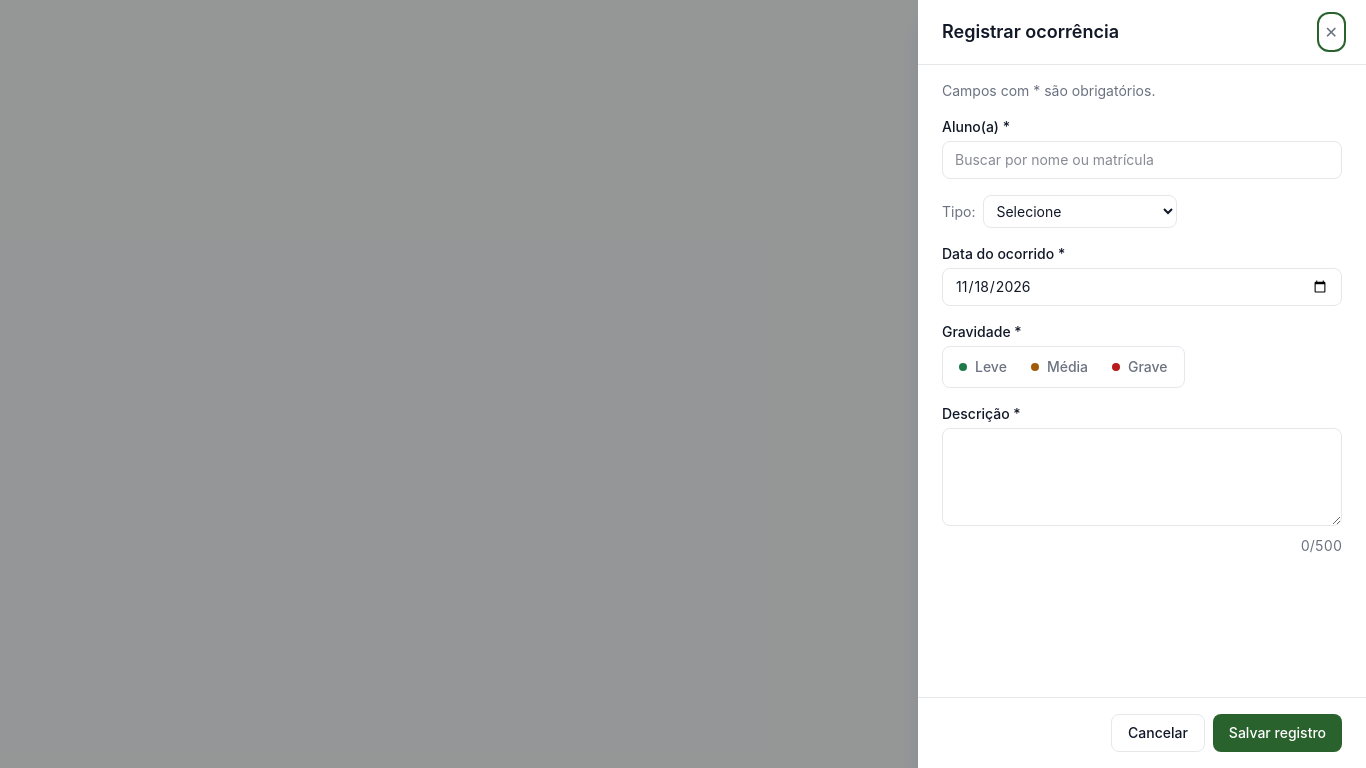
it: RegistrarOcorrenciaDrawer › mostra os erros dos campos obrigatórios ao salvar em branco
Click the button "Salvar registro" at coordinates (1277, 733), box [1213,714,1342,752]
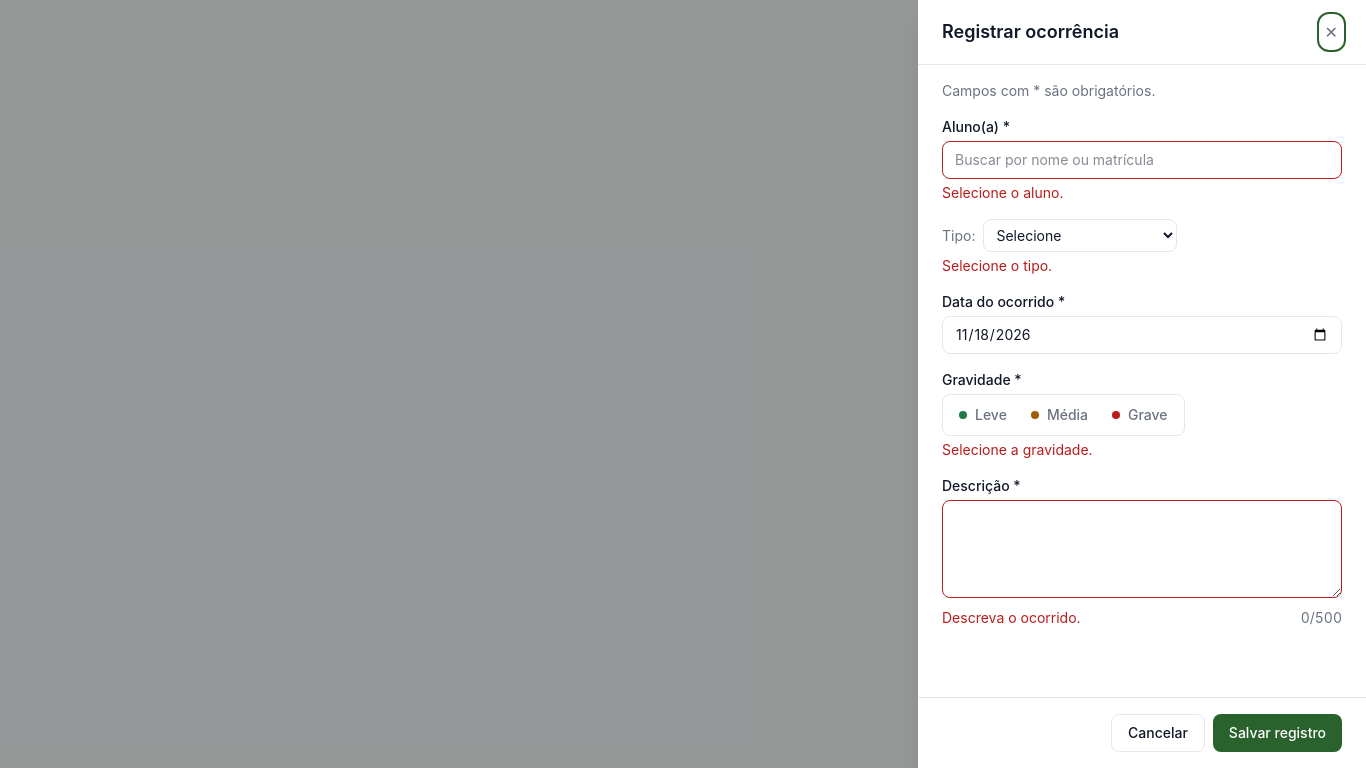
Expected: the text "Selecione o aluno." is shown, [942,184,1063,201]
Expected: the text "Selecione o tipo." is shown, [942,257,1052,274]
Expected: the text "Selecione a gravidade." is shown, [942,441,1093,458]
